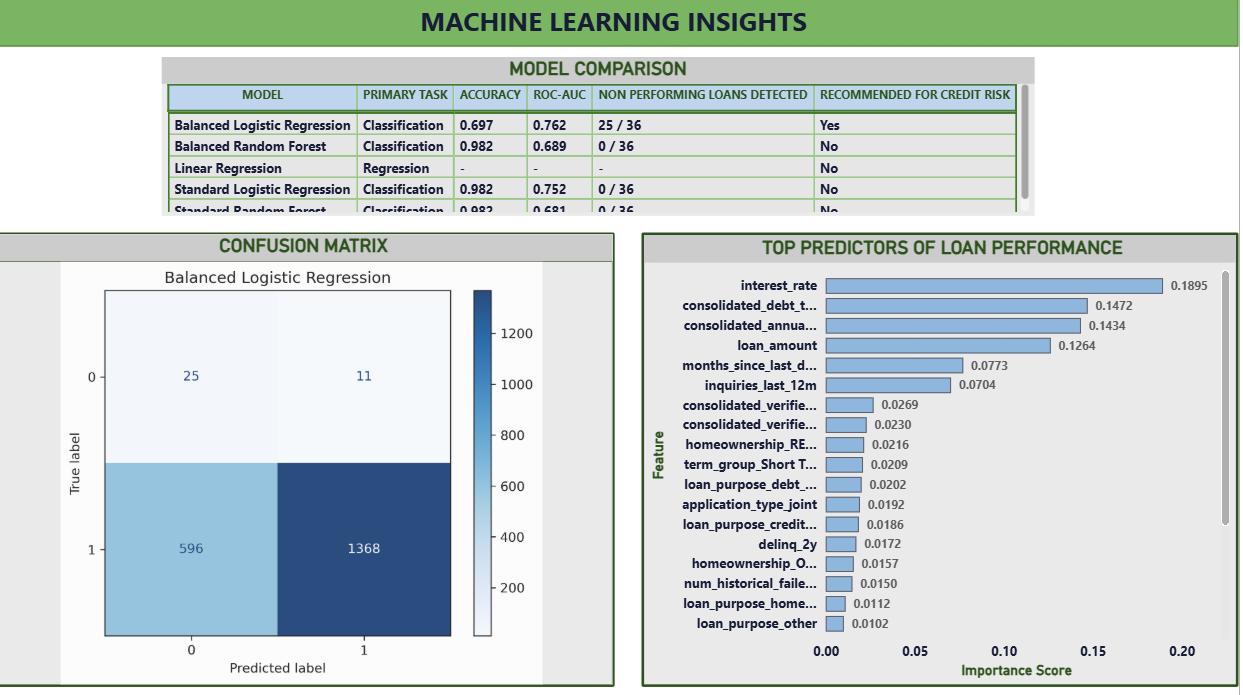

What the dashboard file says about the page in this screenshot:
{"tool":"powerbi","page":{"name":"MACHINE LEARNING  INSIGHTS","canvas":[1280,720],"ordinal":5},"visuals":[{"type":"shape","box":[0,0,1279.5,53.8],"z":0},{"type":"tableEx","title":"MODEL COMPARISON","fields":{"Values":["Model_Comparison#csv.Column1","Model_Comparison#csv.Column2","Model_Comparison#csv.Column3","Model_Comparison#csv.Column4","Model_Comparison#csv.Column5","Model_Comparison#csv.Column6"]},"box":[176.6,64.5,894,162.8],"z":1},{"type":"image","title":"CONFUSION MATRIX","box":[0,244.2,640.5,465.4],"z":4},{"type":"clusteredBarChart","title":"TOP PREDICTORS OF LOAN PERFORMANCE","fields":{"Category":["feature_importance csv (2).Feature"],"Y":["Sum(feature_importance csv (2).Importance)"]},"box":[668.2,244.2,611.3,465.4],"z":5}]}

Visuals, with their boxes in screenshot pixels (x1, y1, x2, y2), scaled from the page's 1280x720 canvas onto the 1243x695 screenshot:
shape: 0/0/1242/52
"MODEL COMPARISON" tableEx: 171/62/1040/219
"CONFUSION MATRIX" image: 0/236/622/685
"TOP PREDICTORS OF LOAN PERFORMANCE" clusteredBarChart: 649/236/1242/685
